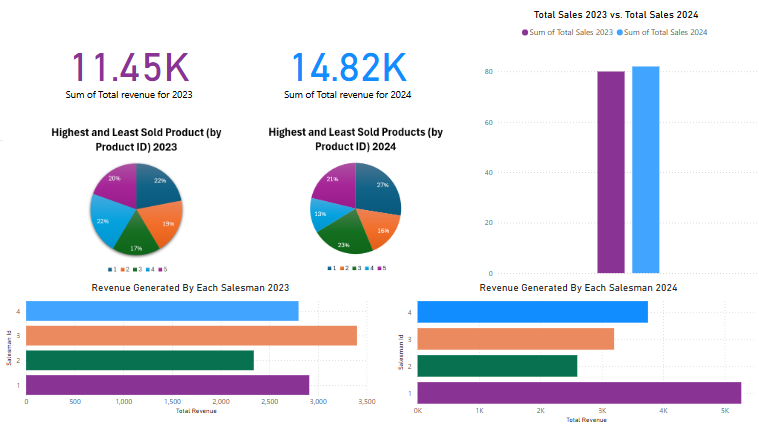

What the dashboard file says about the page in this screenshot:
{"tool":"powerbi","page":{"name":"Page 1","canvas":[1280,720],"ordinal":0},"visuals":[{"type":"card","fields":{"Values":["Sum(totalrevenue2023.sum(totalamount))"]},"box":[0,0,446.7,241.7],"z":0},{"type":"card","fields":{"Values":["Sum(totalrevenue2024.sum(totalamount))"]},"box":[371.7,0,430,241.7],"z":1000},{"type":"clusteredColumnChart","title":"Total Sales 2023 vs. Total Sales 2024","fields":{"Y":["Sum(totalsales2023.Total Sales 2023)","Sum(totalsales2024.Total Sales 2024)"]},"box":[790,23.3,490,455],"z":2000},{"type":"clusteredBarChart","title":"Revenue Generated By Each Salesman 2023","fields":{"Category":["bestandworstsalesman2023.salesmanid"],"Y":["Sum(bestandworstsalesman2023.sum(totalamount))"]},"box":[13.3,478.3,626.7,226.7],"z":3000},{"type":"clusteredBarChart","title":"Revenue Generated By Each Salesman 2024","fields":{"Category":["bestandworstsalesman2024.salesmanid"],"Y":["Sum(bestandworstsalesman2024.sum(totalamount))"]},"box":[665,478.3,615,241.7],"z":4000},{"type":"image","box":[0,203.3,466.7,275],"z":5000},{"type":"image","box":[378.3,203.3,443.3,275],"z":6000}]}

Visuals, with their boxes in screenshot pixels (x1, y1, x2, y2), scaled from the page's 1280x720 canvas onto the 759x425 screenshot:
card - Sum(totalrevenue2023.sum(totalamount)): bbox=(0, 0, 265, 143)
card - Sum(totalrevenue2024.sum(totalamount)): bbox=(220, 0, 475, 143)
"Total Sales 2023 vs. Total Sales 2024" clusteredColumnChart: bbox=(468, 14, 758, 282)
"Revenue Generated By Each Salesman 2023" clusteredBarChart: bbox=(8, 282, 380, 416)
"Revenue Generated By Each Salesman 2024" clusteredBarChart: bbox=(394, 282, 758, 424)
image: bbox=(0, 120, 277, 282)
image: bbox=(224, 120, 487, 282)
